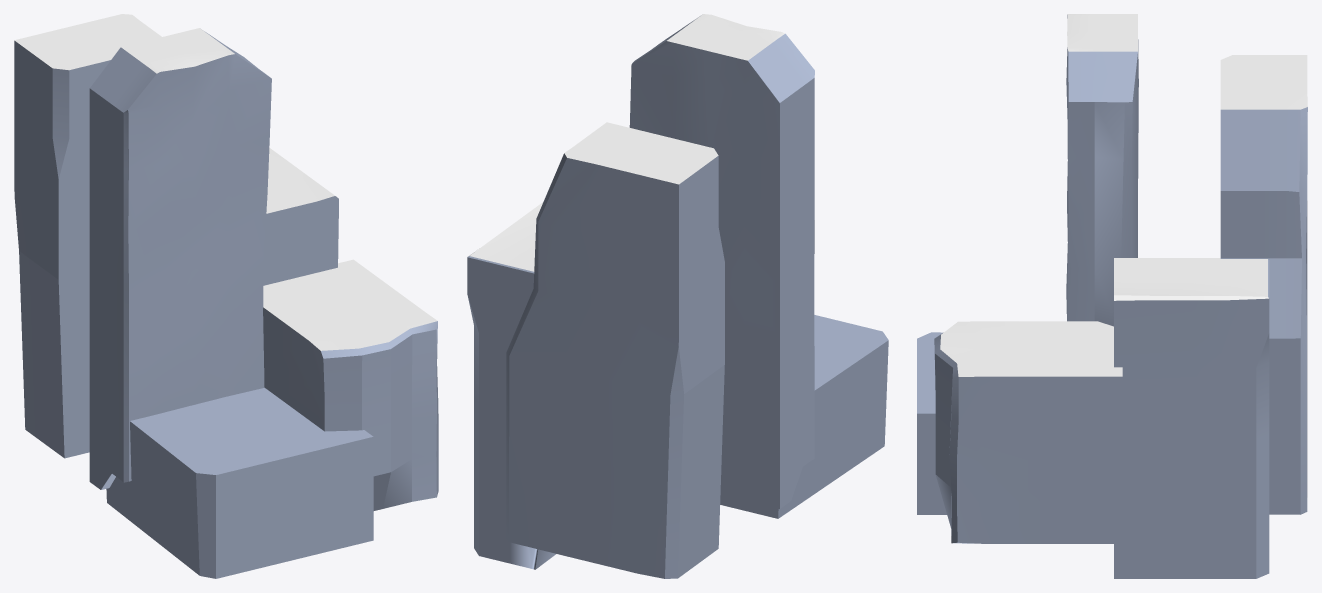
Rendered from MAIN ISLAND TERRAIN4.fbx.
3 views of the same model, side by side, from view 1: azimuth 30°, elevation 25°; view 2: azimuth 150°, elevation 25°; view 3: azimuth 270°, elevation 25° (orthographic). The views are drawn at different scales.
Visible parts, largest first — view 1: MainIslandTerrain.003; view 2: MainIslandTerrain.003; view 3: MainIslandTerrain.003.
Part boxes in pixels (left/top/right/bottom): MainIslandTerrain.003: left=14, top=14, right=438, bottom=578; MainIslandTerrain.003: left=467, top=14, right=888, bottom=578; MainIslandTerrain.003: left=917, top=14, right=1307, bottom=578.
Bounding box in the file's own units: 4885 × 8713 × 6592.
